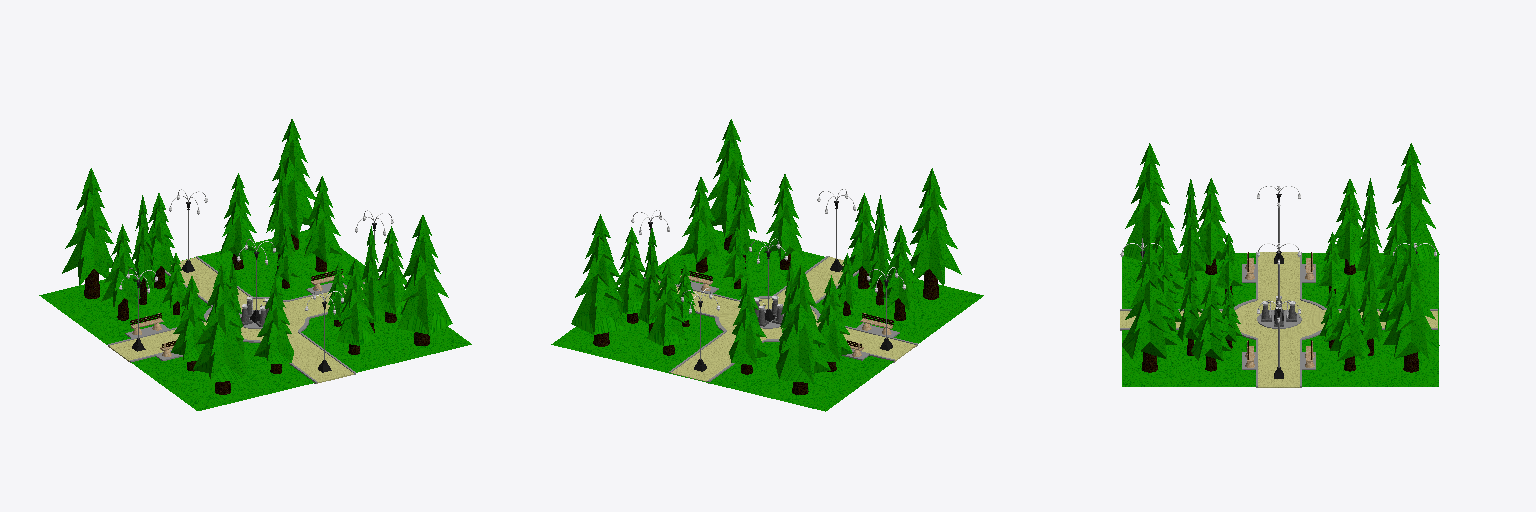
3 views of the same model, side by side, from view 1: azimuth 30°, elevation 25°; view 2: azimuth 150°, elevation 25°; view 3: azimuth 270°, elevation 25° (orthographic).
Parts seen in each view (by area): view 1: Leaf, Ground, Lamp, Bench; view 2: Leaf, Ground, Lamp, Bench; view 3: Leaf, Ground, Lamp, Bench.
Boxes of the visible parts, box(x1,y1,x2,y2) form: Leaf: box(62, 119, 452, 394); Ground: box(39, 229, 471, 410); Lamp: box(119, 189, 393, 372); Bench: box(130, 269, 363, 356); Leaf: box(571, 119, 961, 394); Ground: box(551, 230, 983, 411); Lamp: box(631, 189, 905, 371); Bench: box(659, 269, 893, 356); Leaf: box(1122, 143, 1439, 372); Ground: box(1120, 252, 1438, 387); Lamp: box(1120, 186, 1436, 378); Bench: box(1245, 252, 1314, 367).
Size of the model in its own units: 12 by 5.44 by 12.08.
13 materials, 11 textured.